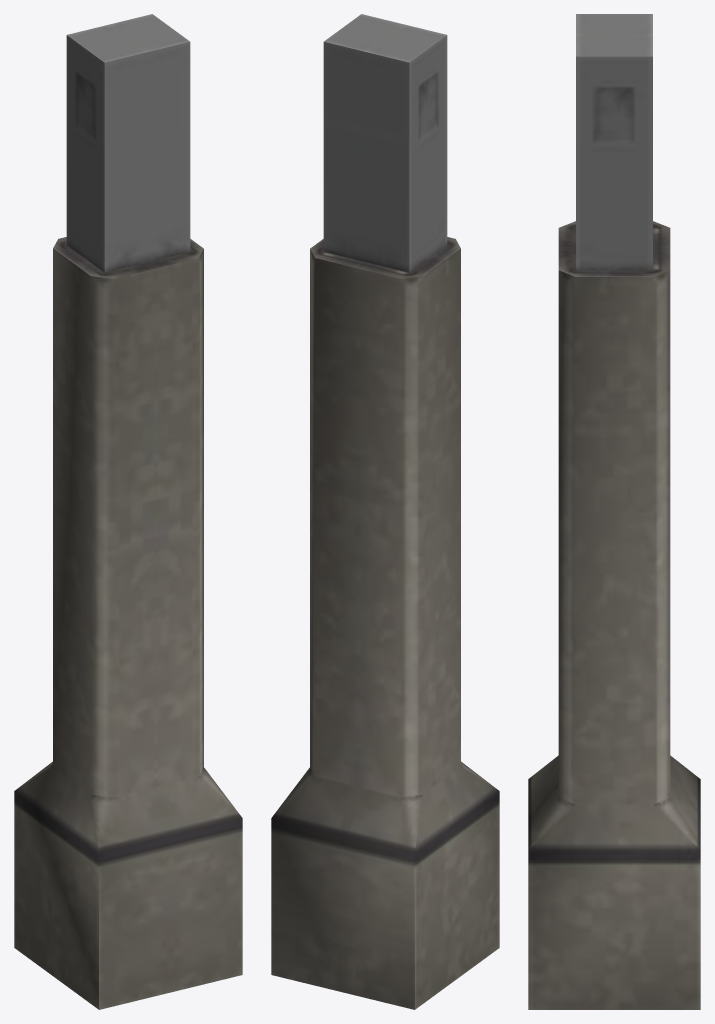
Rendered from Part - Column 05-5aJrEv6-.glb.
3 views of the same model, side by side, from view 1: azimuth 30°, elevation 25°; view 2: azimuth 150°, elevation 25°; view 3: azimuth 270°, elevation 25° (orthographic).
Parts seen in each view (by area): view 1: Column_05; view 2: Column_05; view 3: Column_05.
Boxes of the visible parts, x1,y1,x2,y2 form: Column_05: (14, 14, 242, 1009); Column_05: (271, 14, 499, 1009); Column_05: (528, 14, 700, 1009).
Size of the model in its own units: 0.1813 by 1.11 by 0.1856.
1 material, 1 textured.
